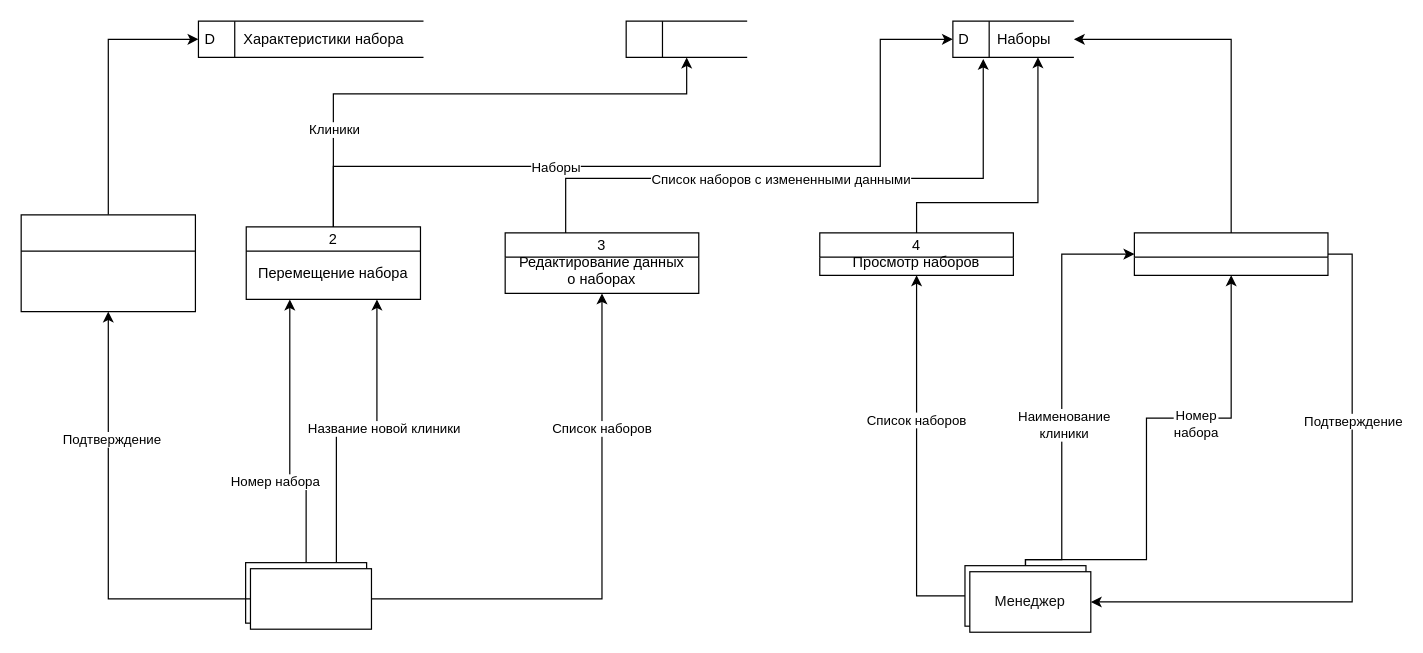
Some shapes in this 1423 by 653 pixel diagram are drawn without their labels. Each missing label, with the centre of its shape:
1 Подтверждение на перемещение набора: (x=107, y=263)
5 Перемещение набора: (x=1230, y=253)
D Клиники: (x=686, y=38)
Администратор: (x=310, y=598)
